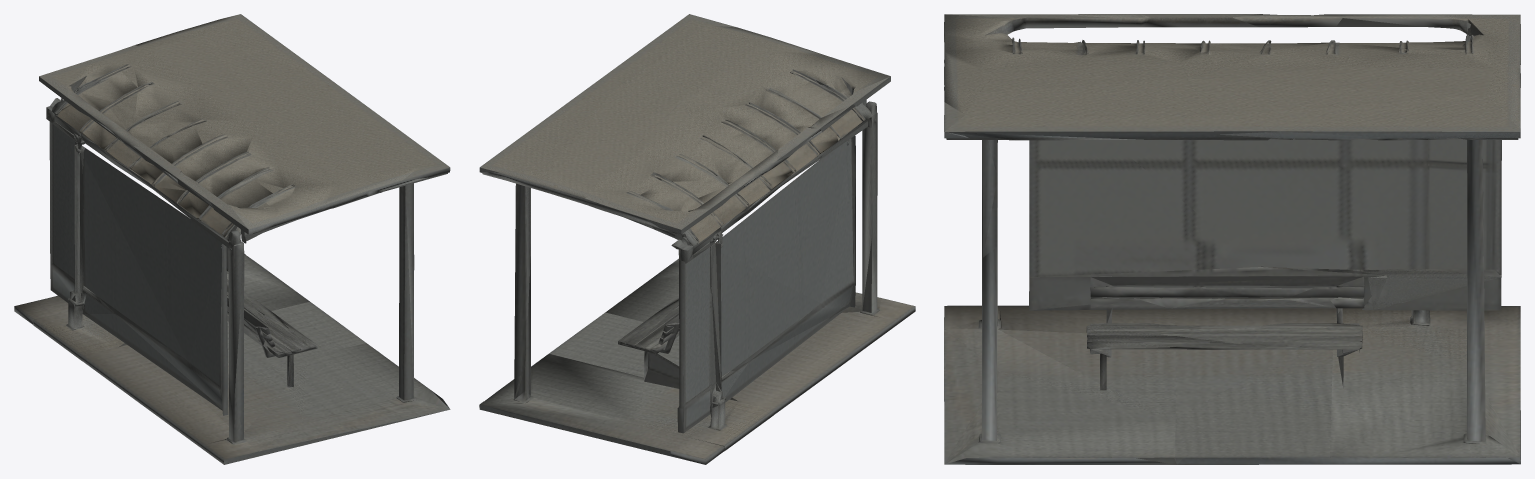
The model's file is ponto-de-onibus-br-v2__01a1b613.glb.
3 renders of one model, left to right at view 1: azimuth 30°, elevation 25°; view 2: azimuth 150°, elevation 25°; view 3: azimuth 270°, elevation 25°, orthographic. The views are drawn at different scales.
Visible parts, largest first — view 1: ponto-de-onibus-br-v2__01a1b613; view 2: ponto-de-onibus-br-v2__01a1b613; view 3: ponto-de-onibus-br-v2__01a1b613.
Part boxes in pixels (x1,y1,x2,y2): ponto-de-onibus-br-v2__01a1b613: [14, 14, 450, 464]; ponto-de-onibus-br-v2__01a1b613: [479, 14, 915, 464]; ponto-de-onibus-br-v2__01a1b613: [944, 14, 1520, 464].
Size of the model in its own units: 2.54 by 2.6 by 4.07.
1 material, 1 textured.
